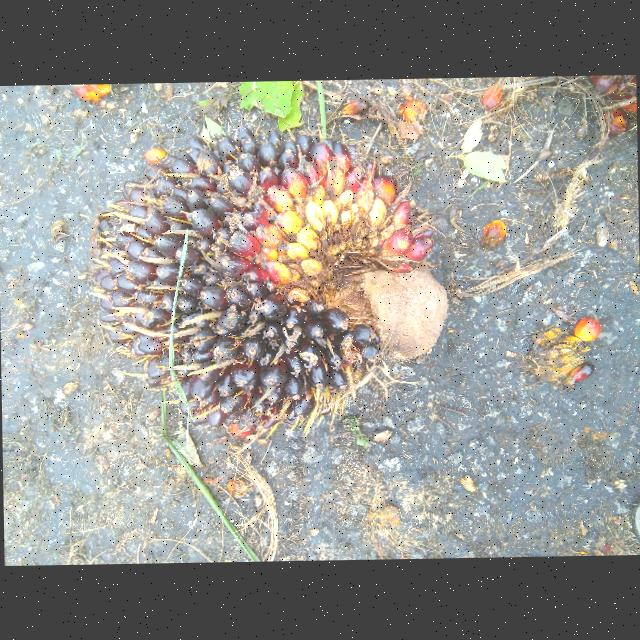Unripe: (95, 133, 427, 435)
